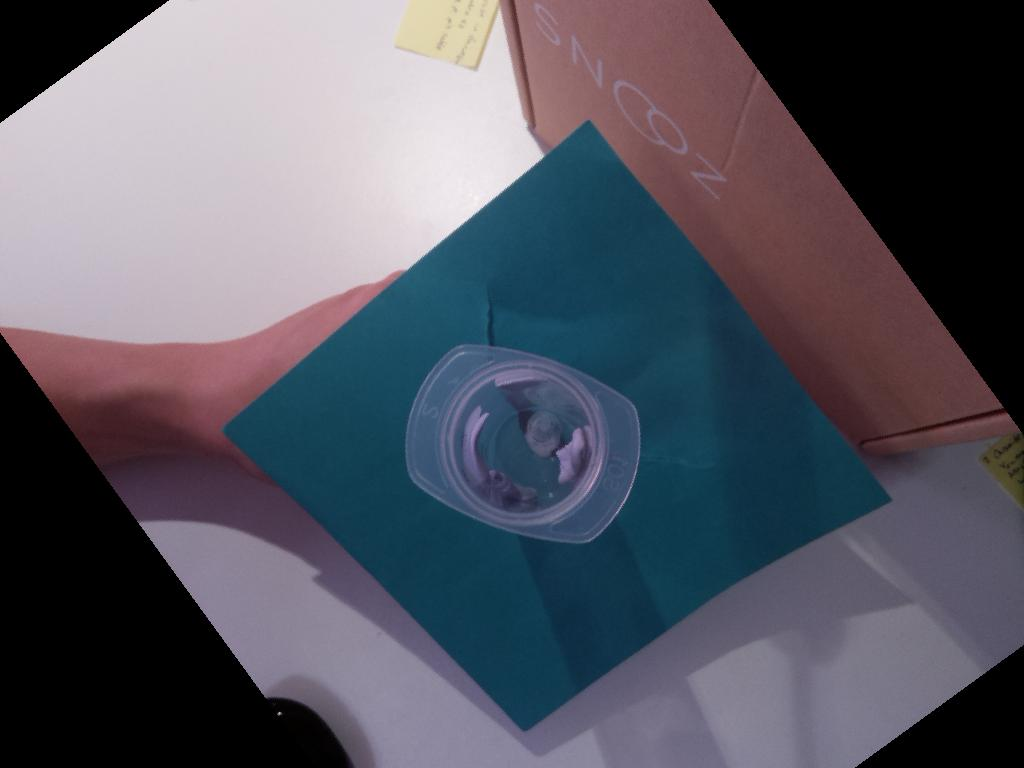dirty: (404, 344, 641, 544)
